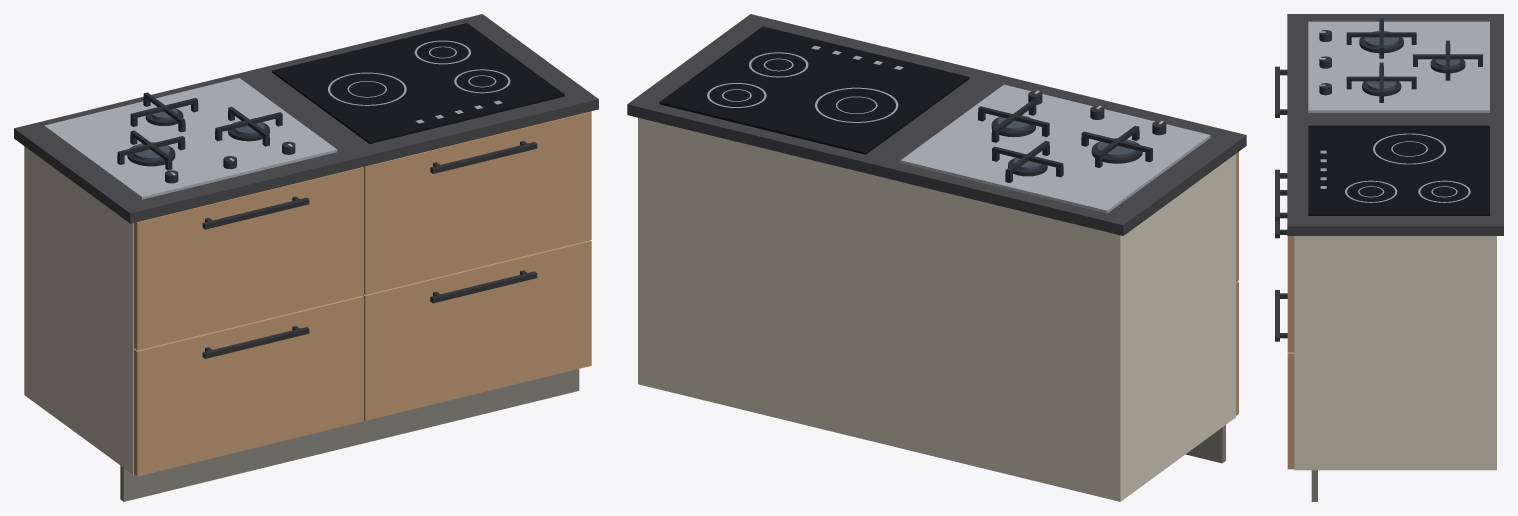
Rendered from cooktop.glb.
The picture shows the model from 3 angles, left to right: view 1: azimuth 30°, elevation 25°; view 2: azimuth 150°, elevation 25°; view 3: azimuth 270°, elevation 25°; orthographic projection. The views are drawn at different scales.
Parts seen in each view (by area): view 1: 위 서랍 1, 위 서랍 2, 아래 서랍 1, 아래 서랍 2, 하부장 1 옆판 왼쪽, 인덕션 판, 가스쿡탑 판, 상판 앞, 걸레받이, 상판 뒤, 상판 옆, 상판 옆.001 (+5 smaller); view 2: 하부장 1 뒤판, 하부장 2 뒤판, 하부장 1 옆판 왼쪽, 인덕션 판, 가스쿡탑 판, 상판 뒤, 상판 앞, 상판 옆, 상판 옆.001, 상판 옆.002, 하부장 1 옆판 오른쪽, 하부장 2 옆판 오른쪽 (+4 smaller); view 3: 하부장 2 옆판 오른쪽, 인덕션 판, 가스쿡탑 판, 상판 앞, 상판 뒤, 상판 옆.002, 상판 옆.001, 상판 옆, 아래 서랍 2, 위 서랍 2, 삼발이.001, 삼발이.005 (+5 smaller).
Part boxes in pixels (bbox=[...]): 위 서랍 1: bbox=[134, 167, 363, 350]; 위 서랍 2: bbox=[364, 111, 591, 294]; 아래 서랍 1: bbox=[134, 295, 363, 476]; 아래 서랍 2: bbox=[363, 240, 591, 420]; 하부장 1 옆판 왼쪽: bbox=[24, 146, 134, 474]; 인덕션 판: bbox=[272, 23, 564, 143]; 가스쿡탑 판: bbox=[44, 78, 337, 199]; 상판 앞: bbox=[111, 85, 598, 223]; 걸레받이: bbox=[120, 369, 579, 501]; 상판 뒤: bbox=[14, 14, 496, 148]; 상판 옆: bbox=[29, 134, 133, 209]; 상판 옆.001: bbox=[250, 78, 361, 145]; 하부장 1 뒤판: bbox=[885, 178, 1114, 493]; 하부장 2 뒤판: bbox=[644, 119, 872, 434]; 하부장 1 옆판 왼쪽: bbox=[1114, 154, 1235, 501]; 인덕션 판: bbox=[659, 26, 969, 154]; 가스쿡탑 판: bbox=[900, 84, 1210, 213]; 상판 뒤: bbox=[627, 92, 1139, 235]; 상판 앞: bbox=[731, 14, 1246, 159]; 상판 옆: bbox=[1115, 144, 1226, 223]; 상판 옆.001: bbox=[874, 85, 992, 156]; 상판 옆.002: bbox=[643, 28, 751, 97]; 하부장 1 옆판 오른쪽: bbox=[879, 176, 885, 444]; 하부장 2 옆판 오른쪽: bbox=[638, 118, 644, 385]; 하부장 2 옆판 오른쪽: bbox=[1294, 236, 1496, 470]; 인덕션 판: bbox=[1308, 125, 1489, 215]; 가스쿡탑 판: bbox=[1308, 21, 1489, 112]; 상판 앞: bbox=[1287, 14, 1322, 235]; 상판 뒤: bbox=[1476, 14, 1503, 235]; 상판 옆.002: bbox=[1322, 216, 1475, 235]; 상판 옆.001: bbox=[1322, 113, 1475, 125]; 상판 옆: bbox=[1322, 14, 1475, 21]; 아래 서랍 2: bbox=[1287, 352, 1294, 469]; 위 서랍 2: bbox=[1287, 236, 1294, 352]; 삼발이.001: bbox=[1346, 32, 1416, 37]; 삼발이.005: bbox=[1413, 54, 1482, 59].
Bounding box in the file's own units: 1.44 × 0.922 × 0.655.
